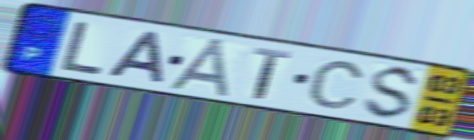A: (164, 36, 234, 100), (105, 29, 167, 86)
C: (305, 59, 368, 110)
L: (58, 19, 106, 77)
S: (360, 64, 424, 122)
T: (251, 45, 294, 101)
